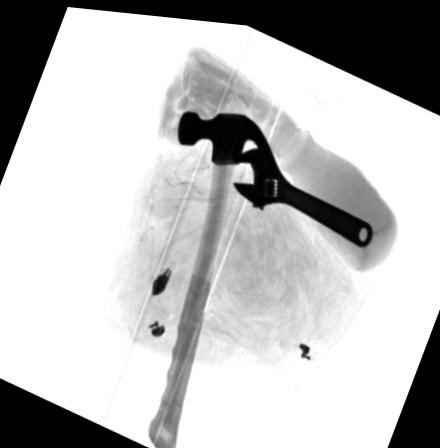Hammer: (147, 105, 272, 448)
Wrench: (231, 136, 371, 241)
